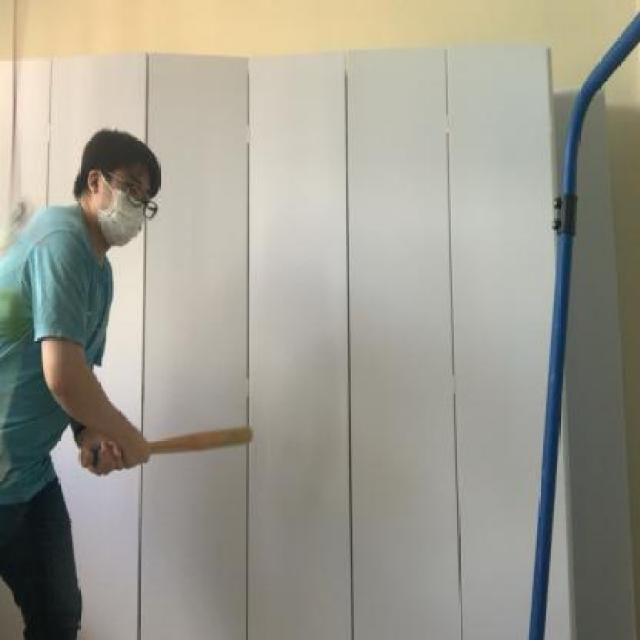baseball: (0, 281, 40, 347)
